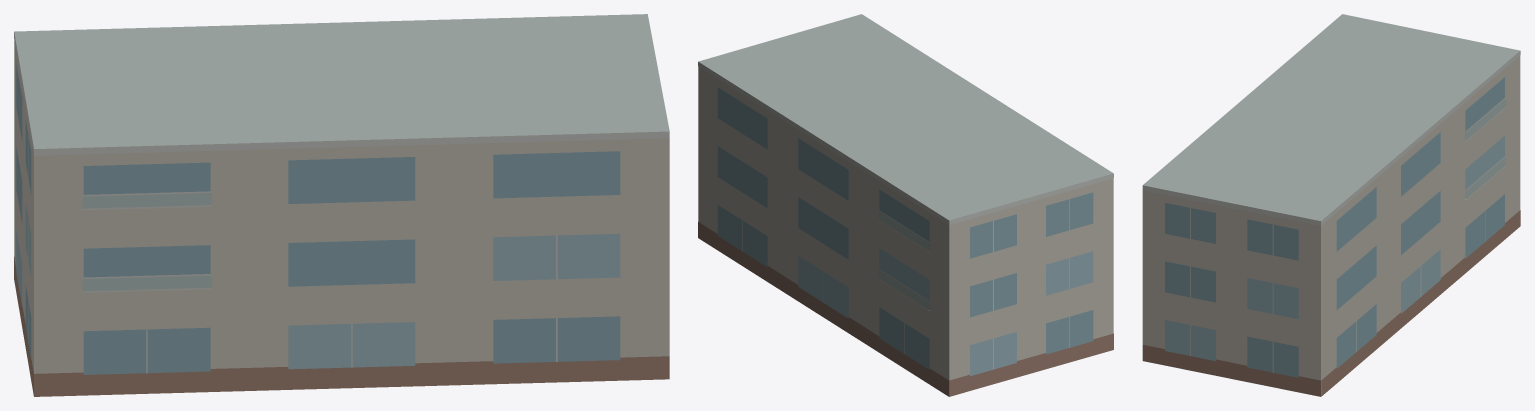
File: survey-upis-32524665.glb
3 views of the same model, side by side, from view 1: azimuth 30°, elevation 25°; view 2: azimuth 150°, elevation 25°; view 3: azimuth 270°, elevation 25° (orthographic). The views are drawn at different scales.
Visible parts, largest first — view 1: survey-upis-32524665.tmp; view 2: survey-upis-32524665.tmp; view 3: survey-upis-32524665.tmp.
Boxes of the visible parts, <box> form: survey-upis-32524665.tmp: <box>14,14,669,396</box>; survey-upis-32524665.tmp: <box>698,14,1113,396</box>; survey-upis-32524665.tmp: <box>1142,14,1520,396</box>.
Size of the model in its own units: 23.15 by 9.15 by 17.84.
